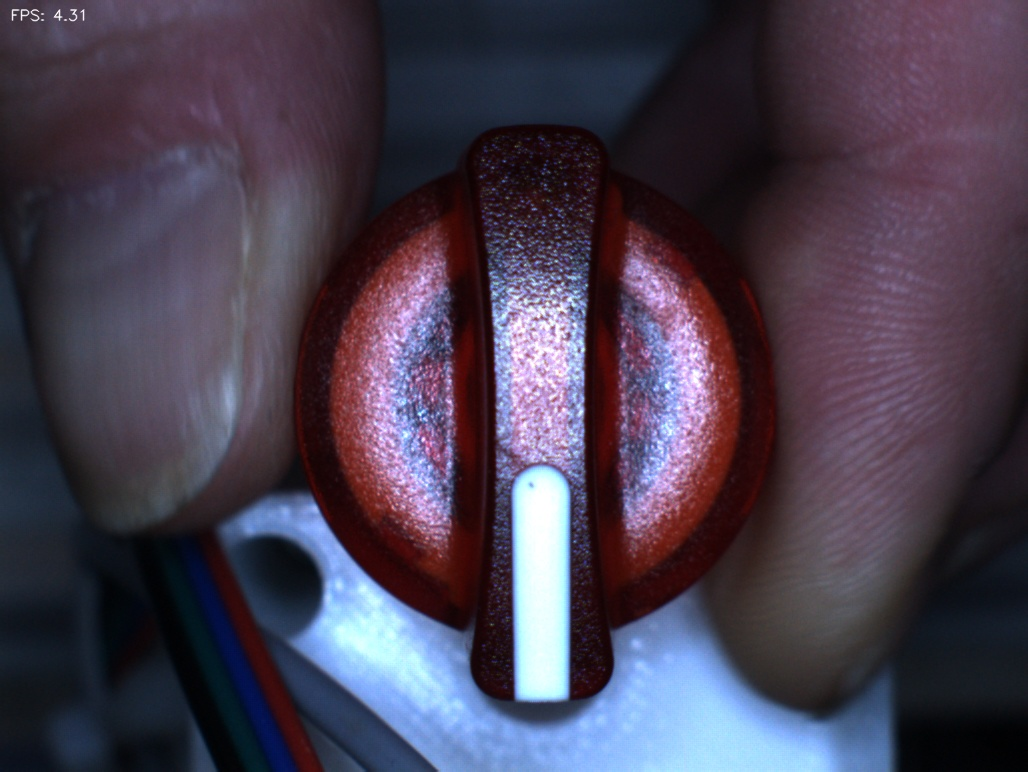PointNoir: (500, 453, 560, 520)
